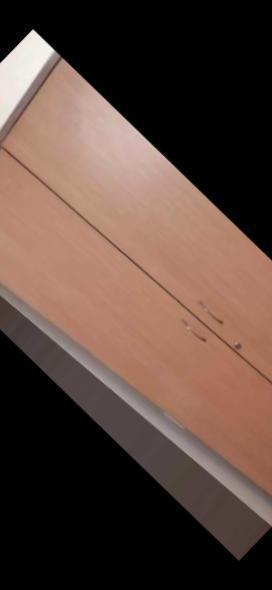Armario: (0, 50, 272, 550)
